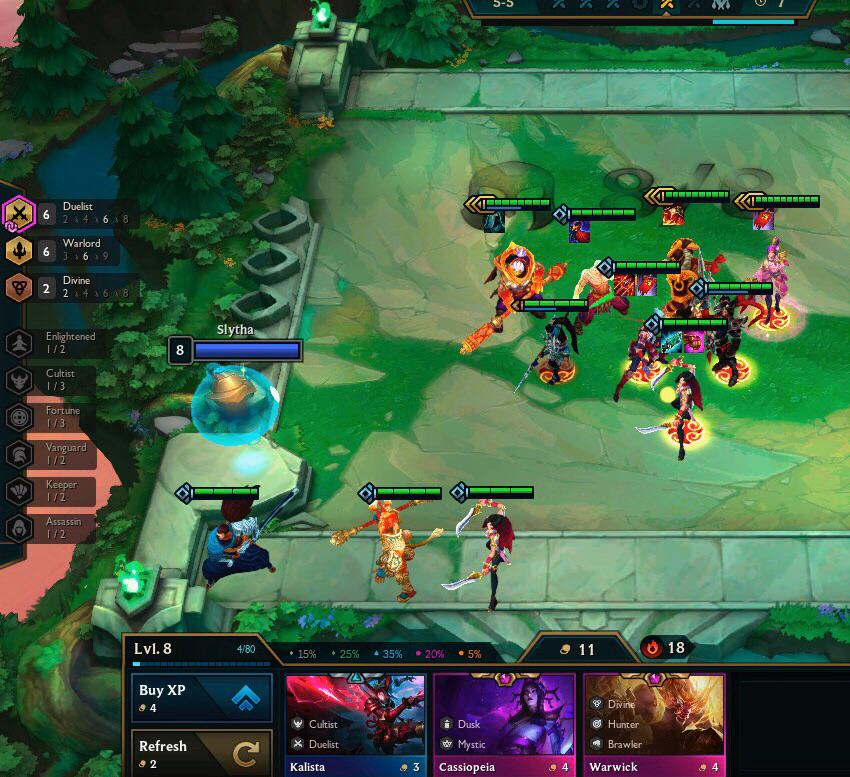1star_xinzhao: (505, 290, 599, 404)
2star_jarvaniv: (685, 270, 779, 404)
2star_kalista: (591, 251, 689, 406)
2star_katarina: (619, 307, 740, 469), (434, 476, 548, 620)
2star_leesin: (546, 197, 644, 352)
2star_yasuo: (163, 472, 311, 599)
3star_fiora: (698, 182, 831, 338)
3star_fiora_chosen: (696, 187, 829, 343)
3star_garen: (582, 181, 735, 364)
3star_jax: (446, 176, 575, 364)
trait_assassin1: (1, 509, 151, 546)
trait_cultist1: (1, 362, 151, 399)
trait_divine2: (1, 269, 151, 306)
trait_duelist6: (1, 195, 151, 232)
trait_duelist_chosen: (1, 192, 38, 236)
trait_enlightened1: (1, 323, 151, 360)
trait_fortune1: (1, 399, 151, 436)
trait_keeper1: (1, 474, 151, 511)
trait_vanguard1: (1, 435, 151, 472)
trait_warlord6: (1, 231, 151, 268)
